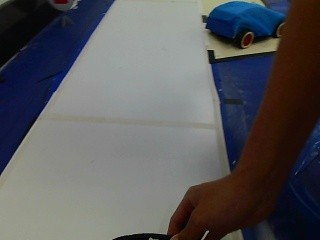car: (201, 0, 277, 49)
